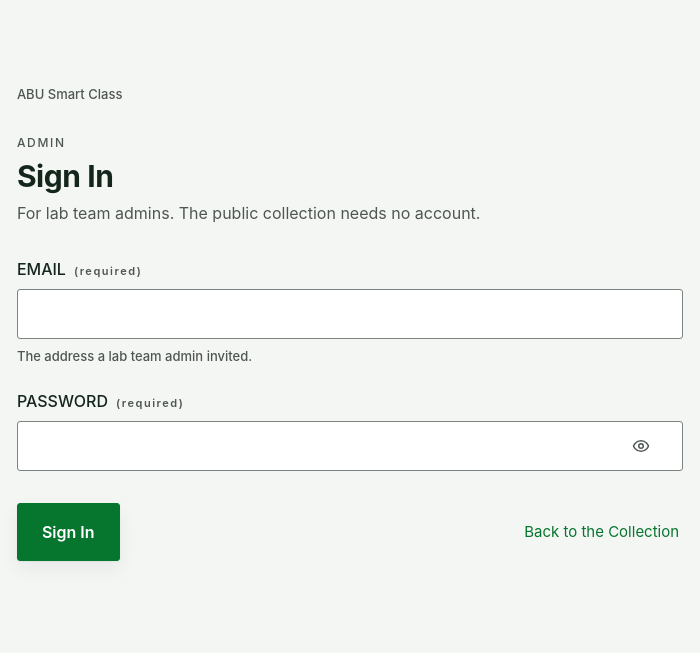
Test case: S-006 /admin/login › submits credentials and displays invalid-credentials banner on 401 failure
The image size is (700, 653).
Type "admin@abu.edu.ng" into the field labelled "EMAIL" at (350, 314), box [17,289,683,339]
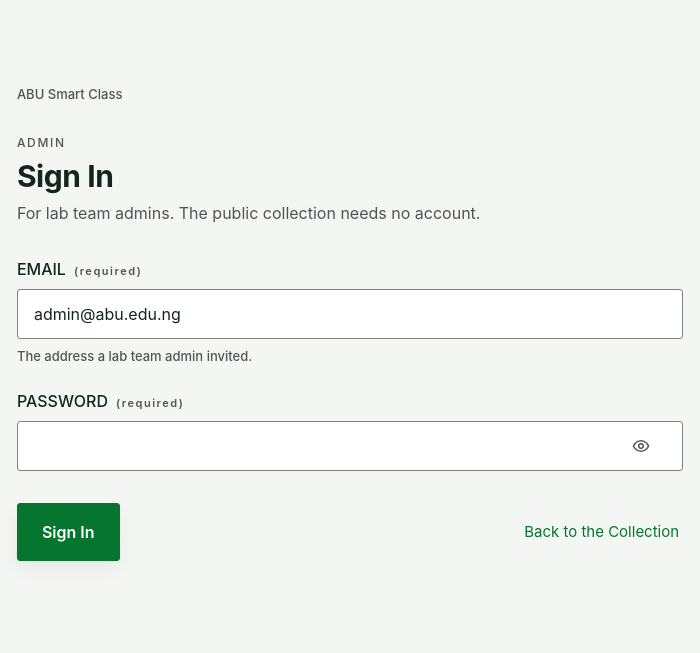
Type "wrongpass" into the password field labelled "PASSWORD" at (350, 446), box [17,421,683,471]
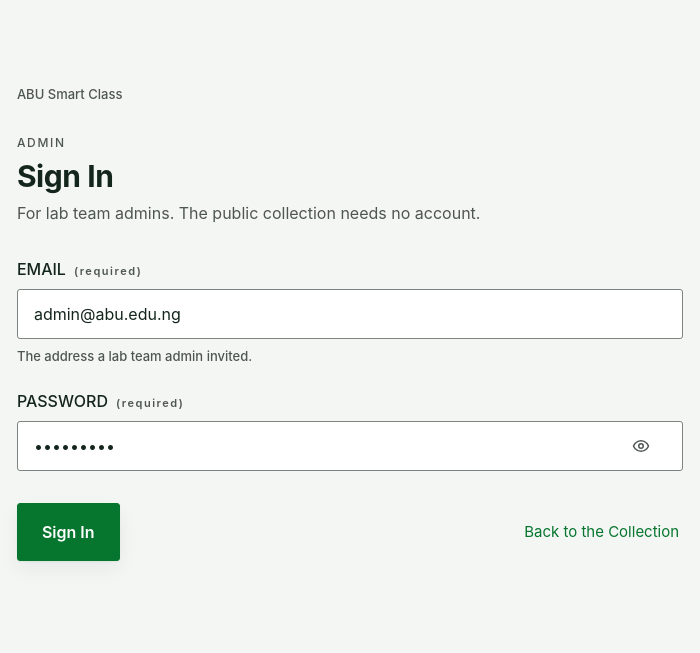
Click the button "Sign In" at (68, 532), box [17,503,120,561]
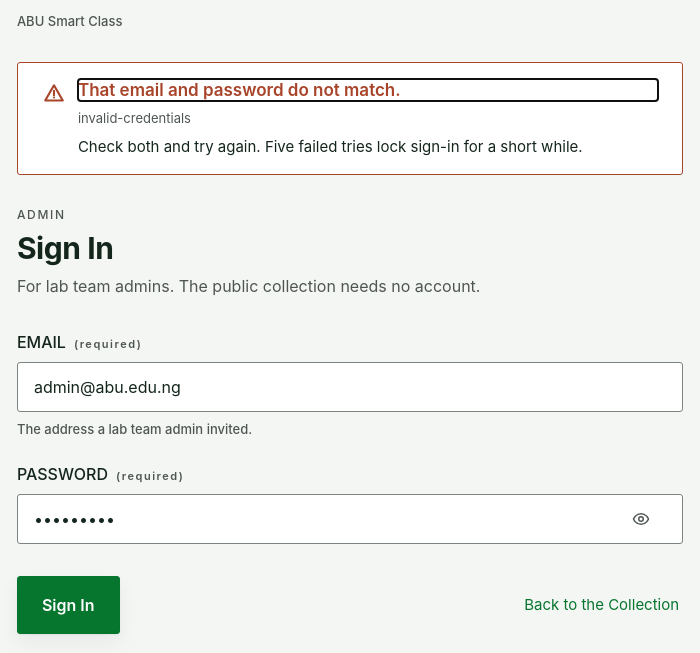
Now the heading "That email and password do not match." is shown, box [78,80,401,100]
Now the text "invalid-credentials" is shown, box [78,110,191,126]
